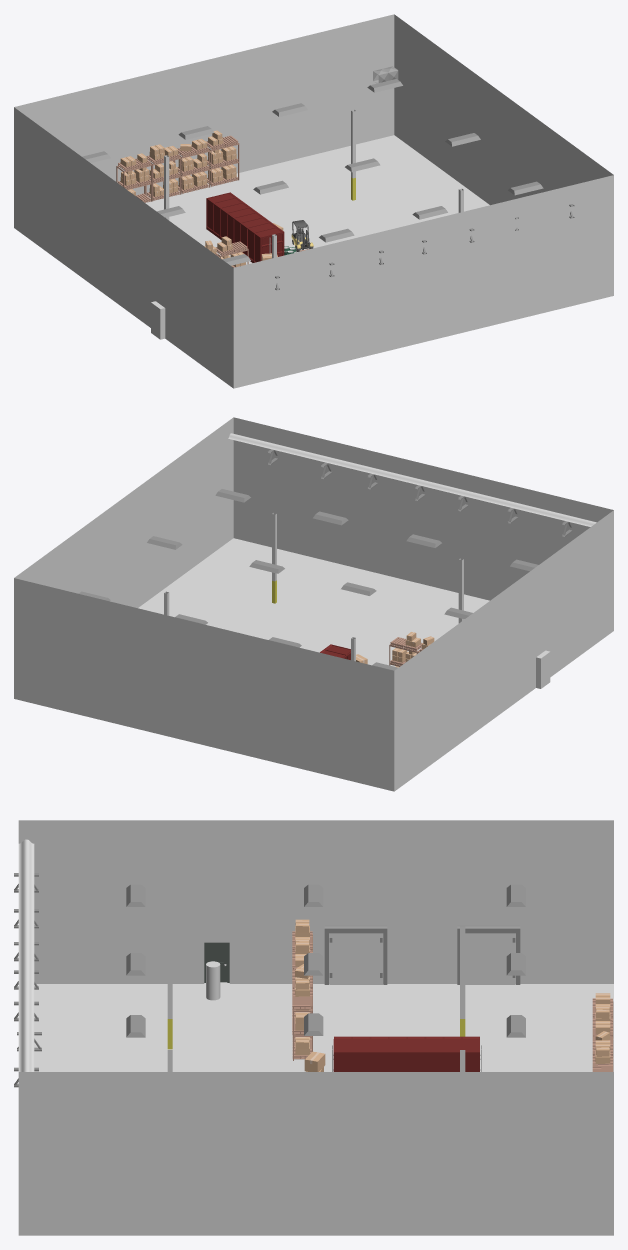
The model's file is warehouse.glb.
3 renders of one model, top to bottom at view 1: azimuth 30°, elevation 25°; view 2: azimuth 150°, elevation 25°; view 3: azimuth 270°, elevation 25°, orthographic. The views are drawn at different scales.
Visible parts, largest first — view 1: walls, Circle, supports, Cube.019; view 2: walls, roof, supports, Cube.019; view 3: walls, Circle, roof, Cube.004, Cube.005, Cube.019, supports, basic_door, person_scale.
Boxes of the visible parts, left/top/right/bottom form: walls: left=14, top=14, right=613, bottom=388; Circle: left=206, top=192, right=284, bottom=262; supports: left=164, top=109, right=463, bottom=258; Cube.019: left=204, top=236, right=248, bottom=267; walls: left=14, top=417, right=613, bottom=791; roof: left=228, top=433, right=596, bottom=526; supports: left=164, top=512, right=463, bottom=661; Cube.019: left=389, top=632, right=434, bottom=667; walls: left=18, top=820, right=613, bottom=1235; Circle: left=332, top=1036, right=481, bottom=1071; roof: left=18, top=839, right=34, bottom=1071; Cube.004: left=324, top=925, right=387, bottom=984; Cube.005: left=457, top=925, right=520, bottom=984; Cube.019: left=292, top=919, right=312, bottom=1060; supports: left=167, top=926, right=465, bottom=1071; basic_door: left=206, top=943, right=227, bottom=982; person_scale: left=206, top=961, right=220, bottom=1000.
Bounding box in the file's own units: 46.89 × 14.08 × 46.67.
